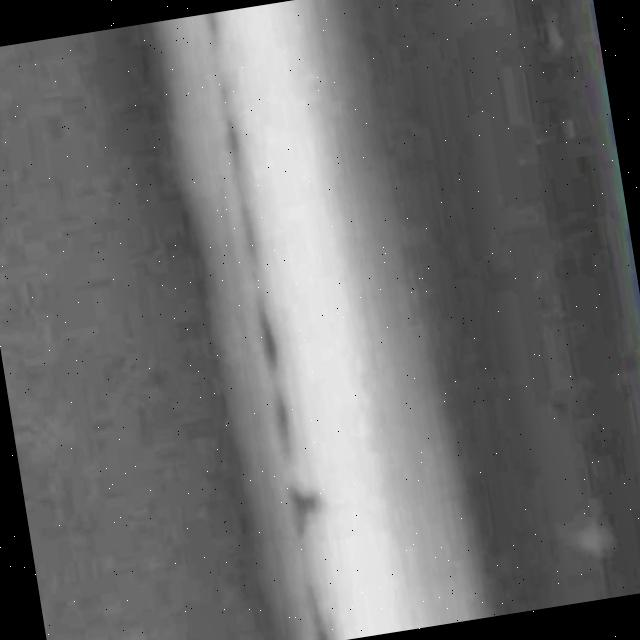LoP-LoF: (200, 5, 365, 640)
Pore: (289, 488, 331, 524)
